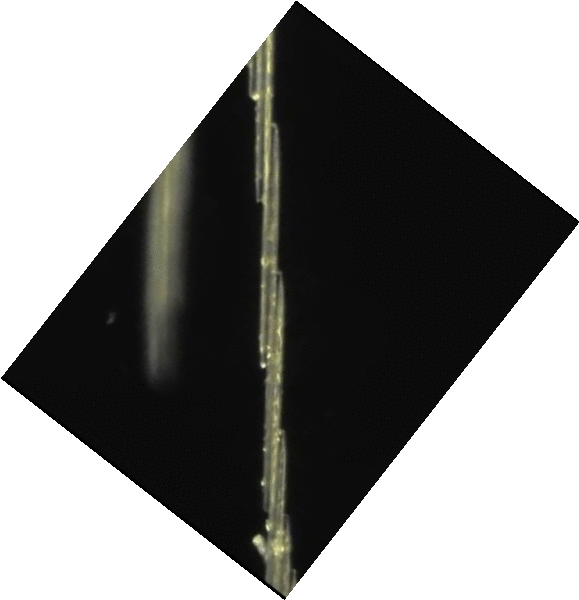bacilleria: (265, 271, 281, 510), (267, 430, 290, 594), (264, 124, 278, 368), (257, 44, 273, 199), (247, 58, 262, 101)
